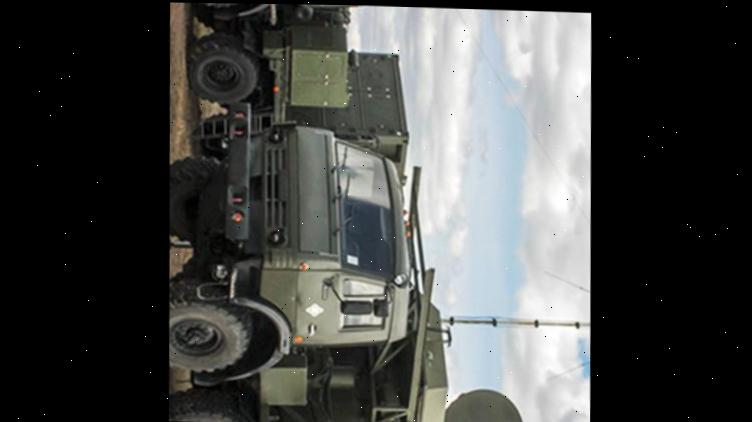truck: (163, 136, 450, 422), (174, 3, 444, 163)
